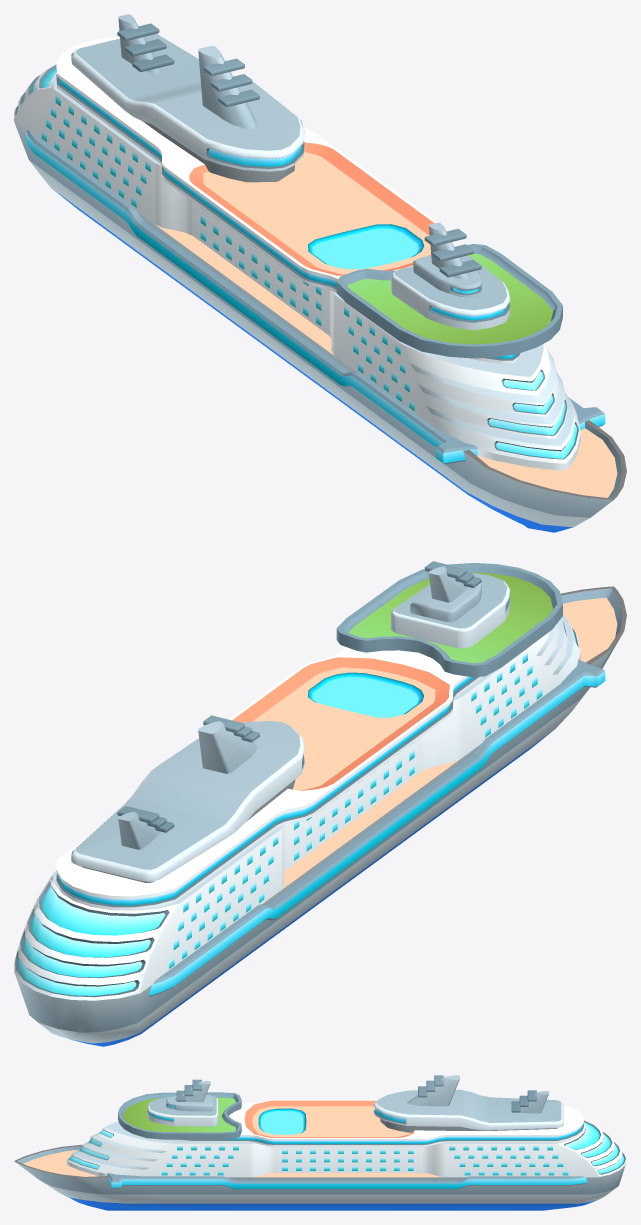
Rendered from Cruise_Ship_01.glb.
The picture shows the model from 3 angles, top to bottom: view 1: azimuth 30°, elevation 25°; view 2: azimuth 150°, elevation 25°; view 3: azimuth 270°, elevation 25°; orthographic projection. The views are drawn at different scales.
Visible parts, largest first — view 1: Cruise_Ship_01; view 2: Cruise_Ship_01; view 3: Cruise_Ship_01.
Boxes of the visible parts, <box> form: Cruise_Ship_01: <box>14,14,626,532</box>; Cruise_Ship_01: <box>14,561,626,1046</box>; Cruise_Ship_01: <box>14,1075,626,1210</box>.
Bounding box in the file's own units: 14.86 × 21.43 × 89.4.
1 material, 1 textured.
